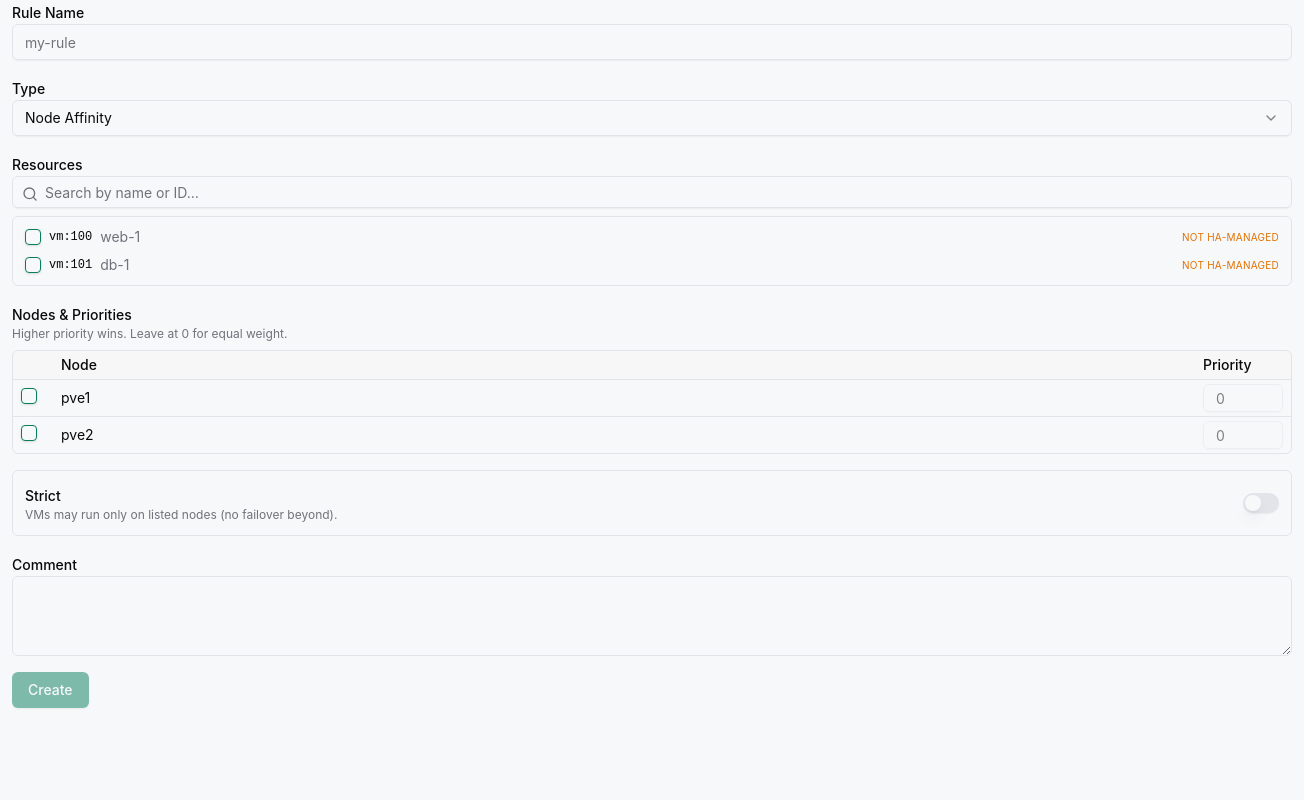
Test case: HARuleForm › switches to resource-affinity fields when type changes
The width and height of the screenshot is (1304, 800).
Click the dropdown: point(68, 118) [12,100,1292,136]
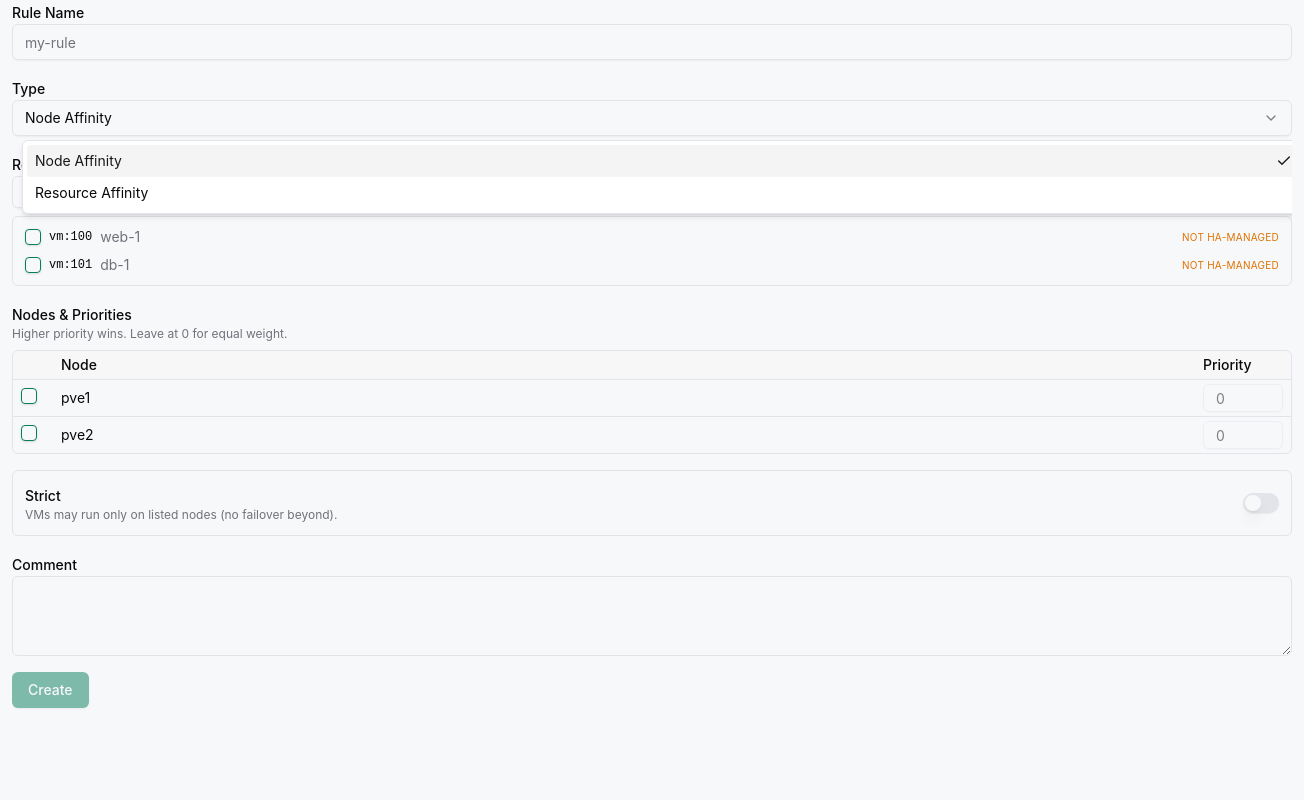
Click the option "Resource Affinity": point(92, 192) [35,184,148,201]
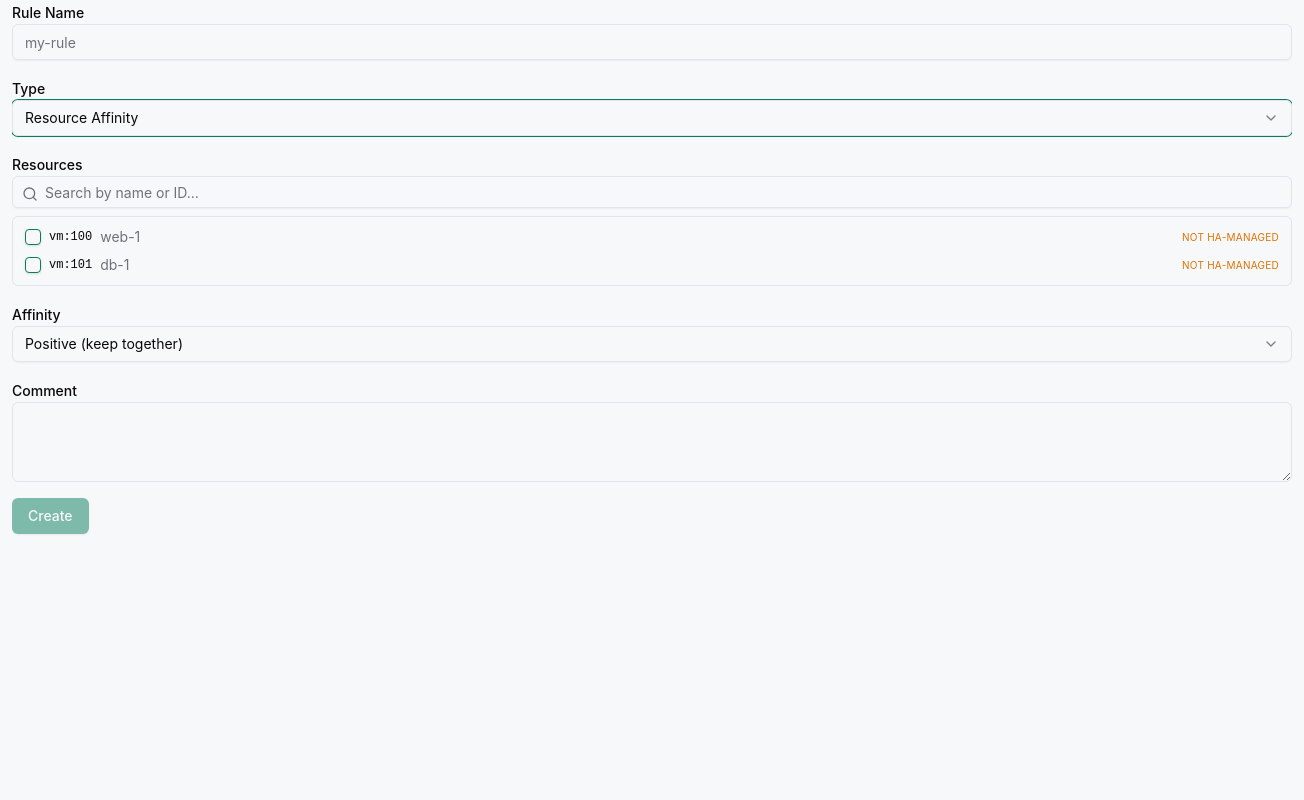
Now the text "Positive (keep together)" is shown, box [25,334,183,354]
Now the text "Nodes & Priorities" is gone
Now the label labelled "Strict" is gone
